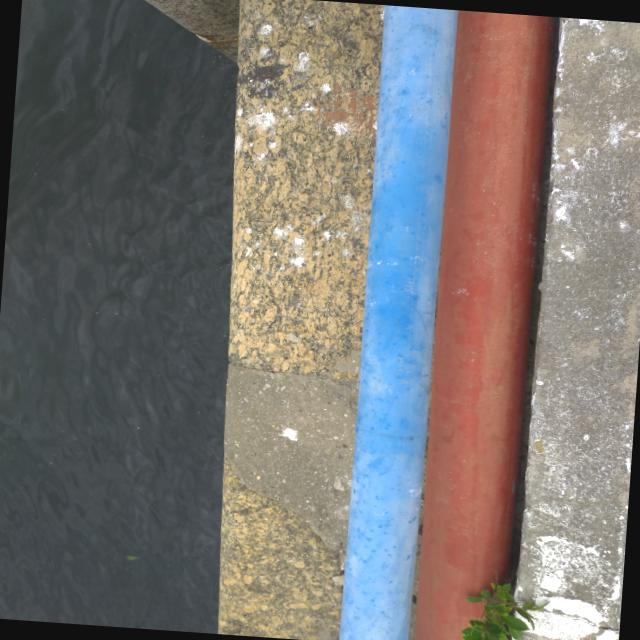gas: (411, 9, 555, 640), (338, 3, 456, 640)
